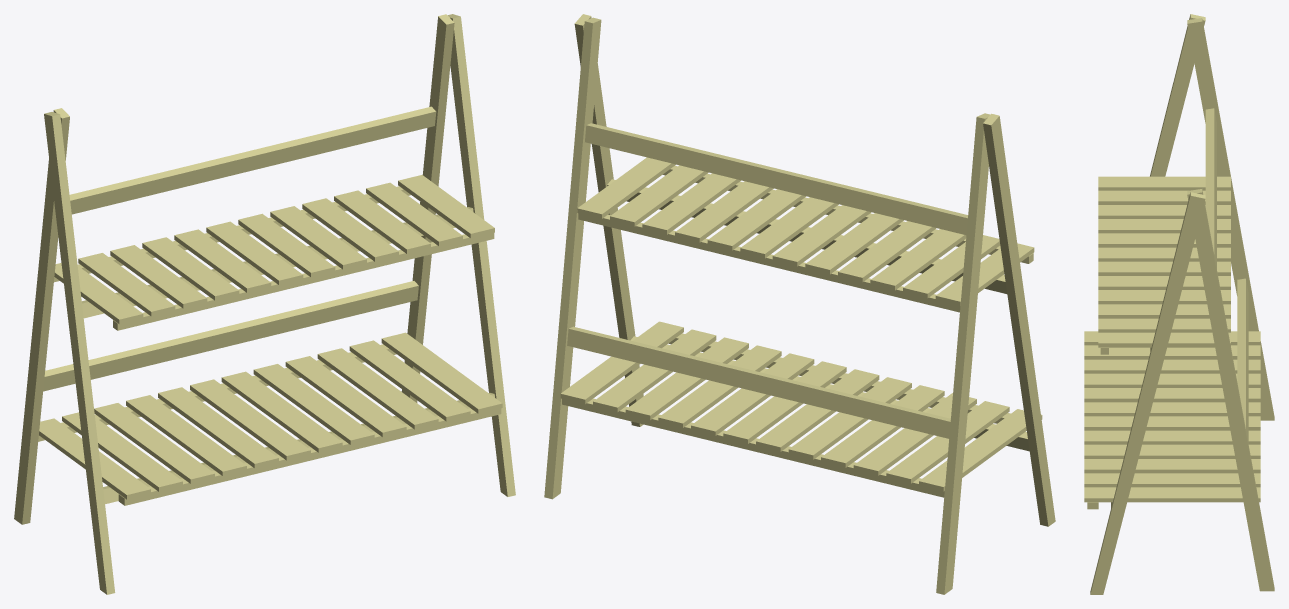
Rendered from Help5.fbx.
The picture shows the model from 3 angles, left to right: view 1: azimuth 30°, elevation 25°; view 2: azimuth 150°, elevation 25°; view 3: azimuth 270°, elevation 25°; orthographic projection. The views are drawn at different scales.
Parts seen in each view (by area): view 1: Cube.004; view 2: Cube.004; view 3: Cube.004.
Part boxes in pixels (box(x1,y1,x2,y2)): Cube.004: box(14, 14, 515, 594); Cube.004: box(544, 14, 1055, 594); Cube.004: box(1084, 14, 1274, 594).
Size of the model in its own units: 1203 by 1233 by 532.
